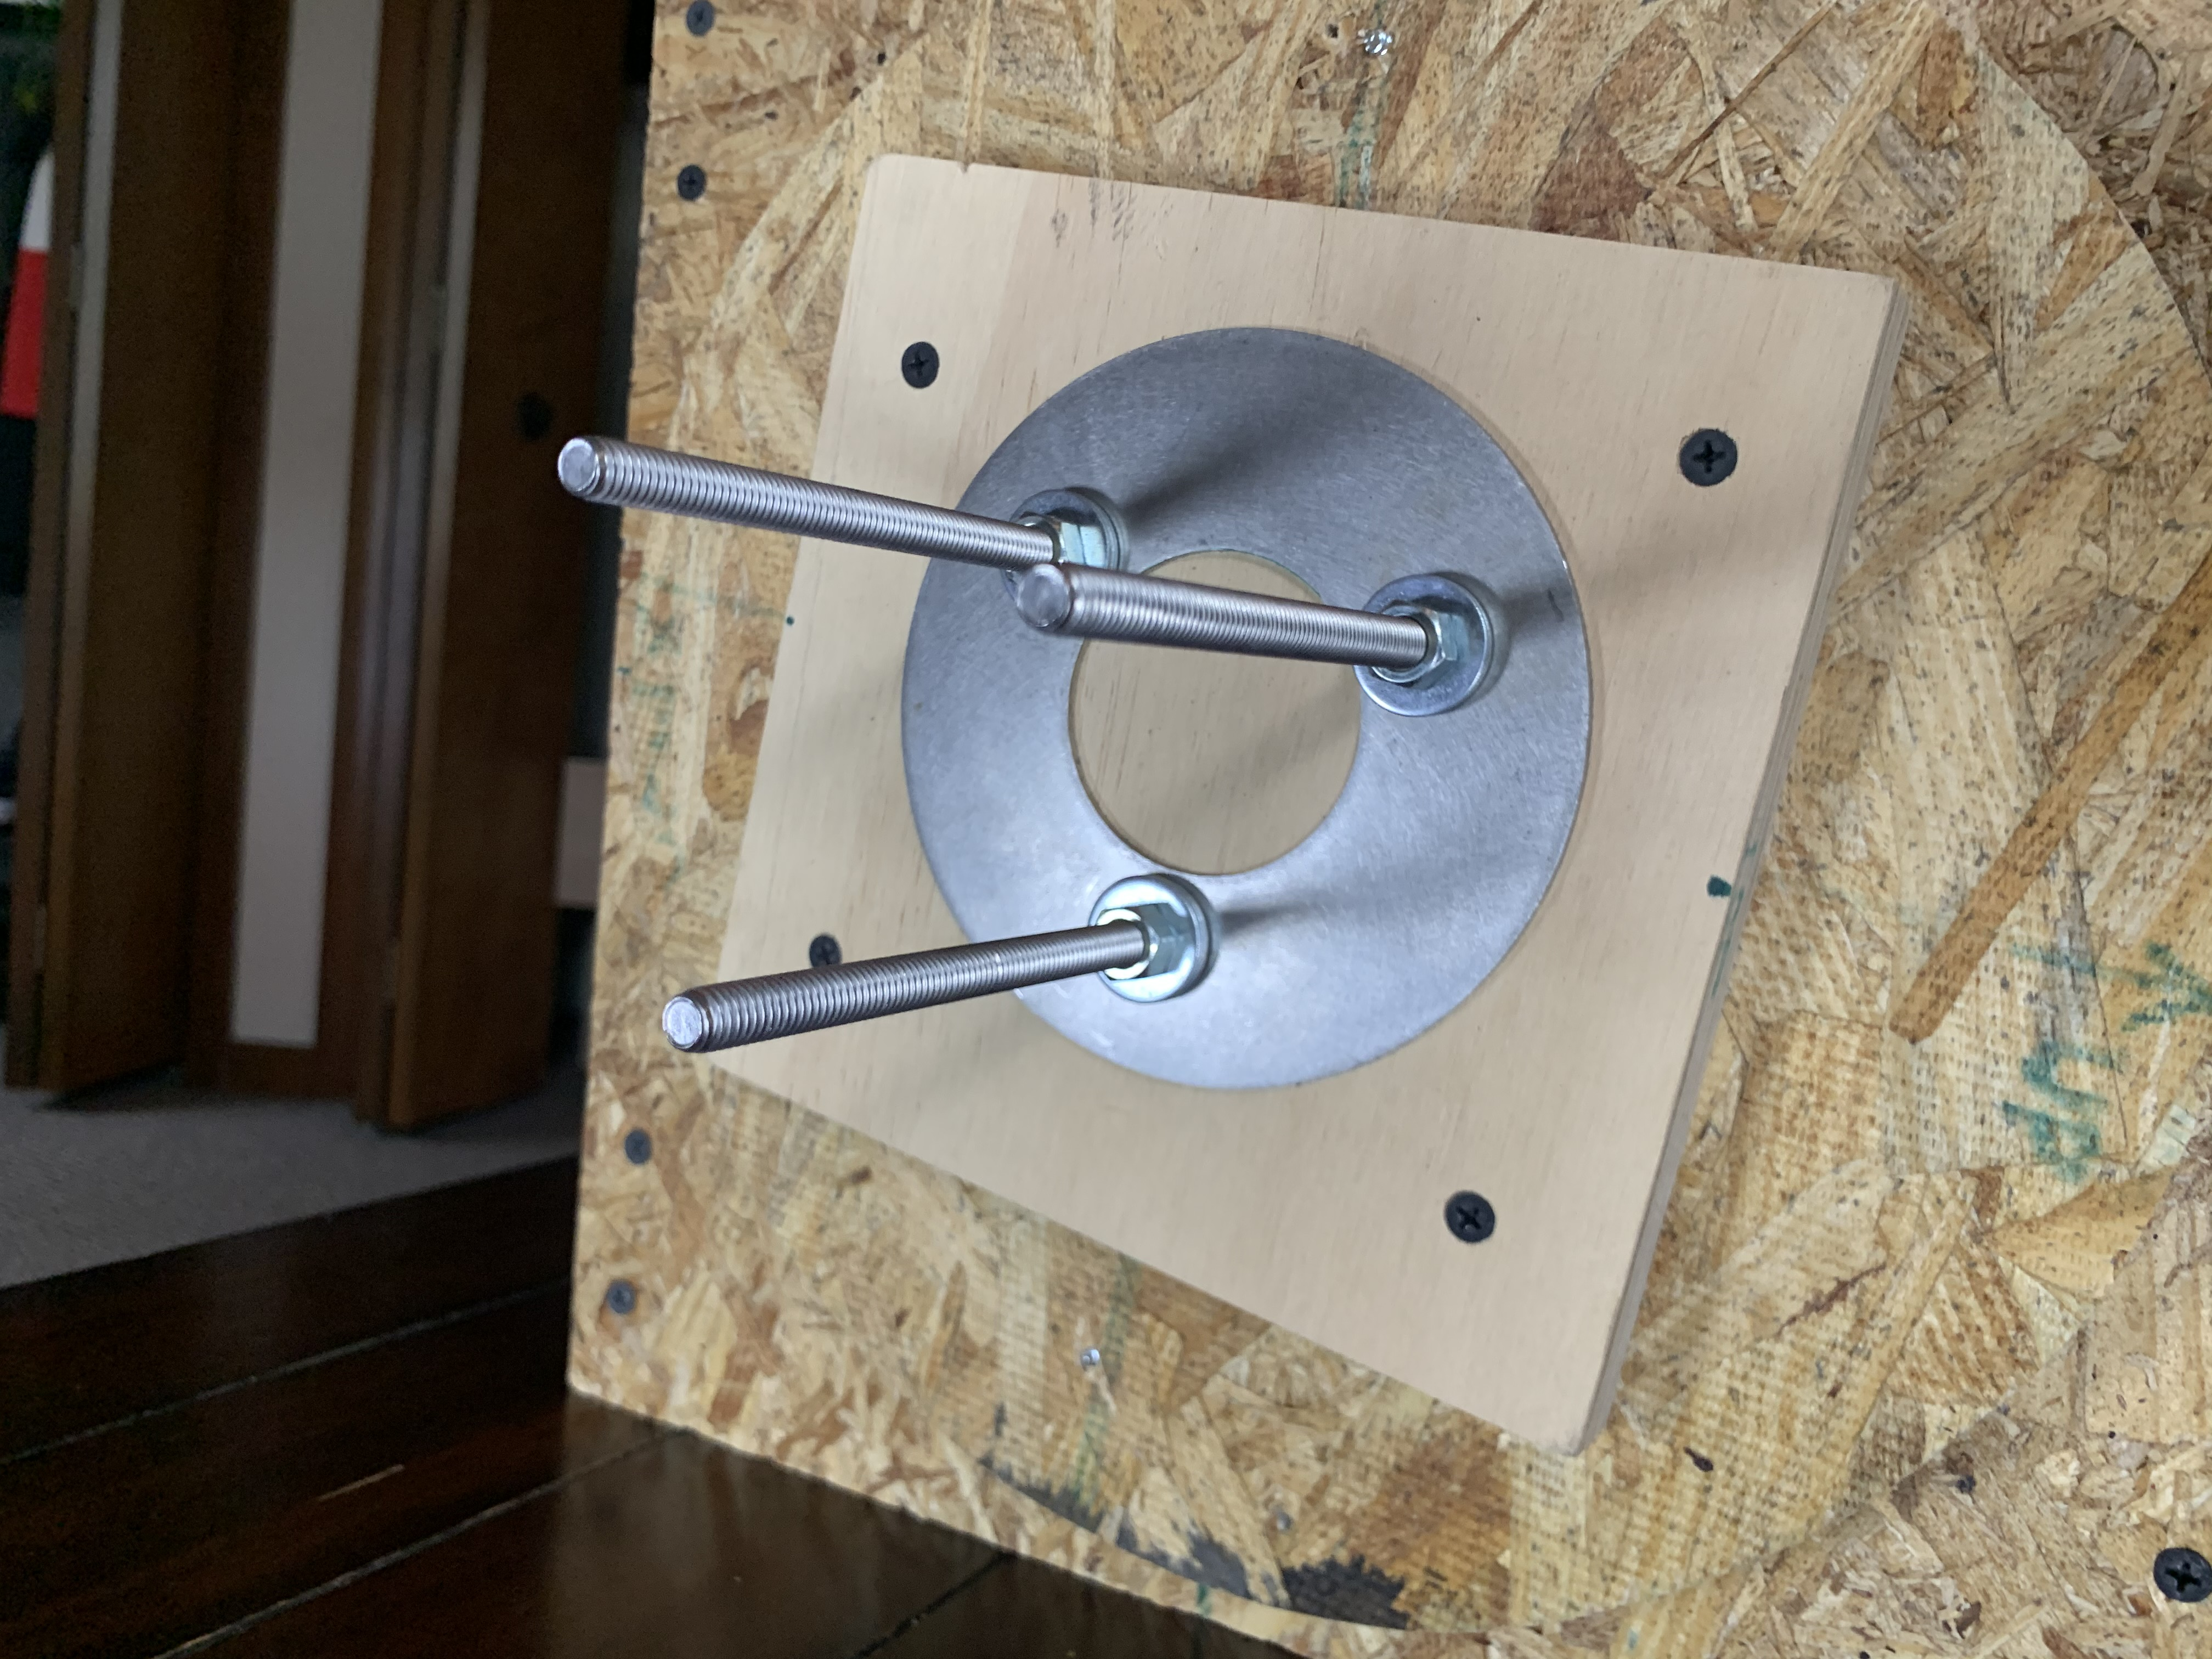bolt: (1357, 575, 1503, 718), (1085, 873, 1217, 1002), (1001, 486, 1129, 589)
